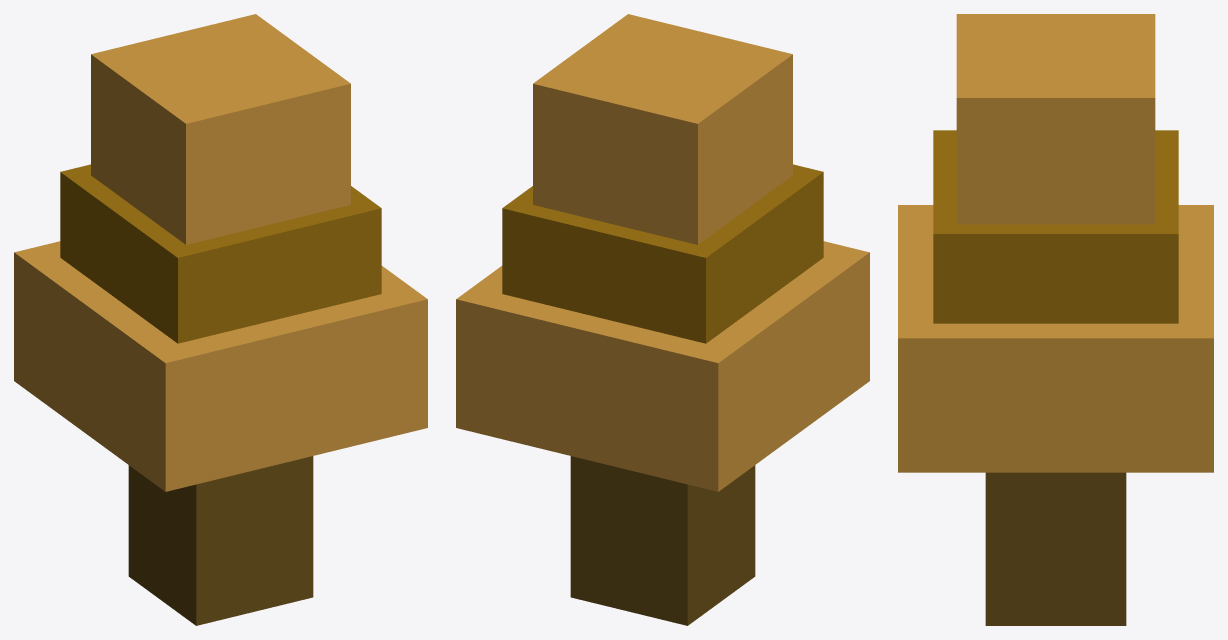
File: fbx_tree02.fbx
3 views of the same model, side by side, from view 1: azimuth 30°, elevation 25°; view 2: azimuth 150°, elevation 25°; view 3: azimuth 270°, elevation 25° (orthographic). The views are drawn at different scales.
Visible parts, largest first — view 1: sm_tree02; view 2: sm_tree02; view 3: sm_tree02.
Boxes of the visible parts, left/top/right/bottom form: sm_tree02: left=14, top=14, right=427, bottom=625; sm_tree02: left=456, top=14, right=869, bottom=625; sm_tree02: left=898, top=14, right=1213, bottom=625.
Bounding box in the file's own units: 76.94 × 145 × 76.94.
